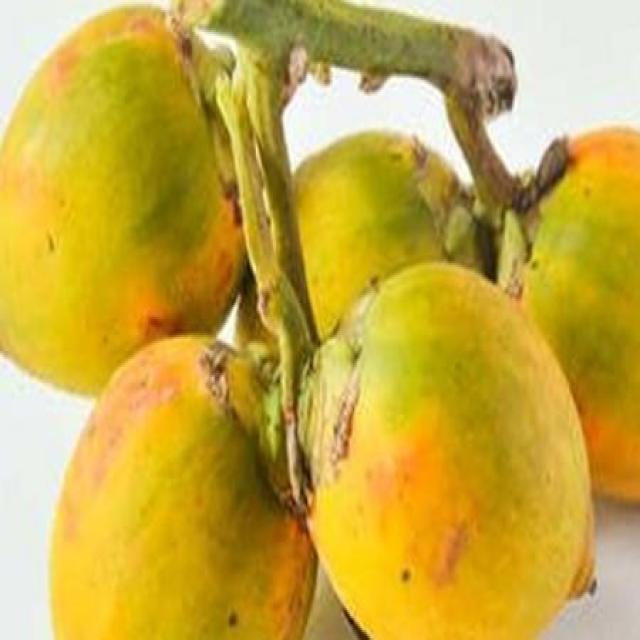good: (48, 44, 597, 638), (0, 0, 249, 401), (521, 126, 639, 508), (293, 134, 455, 341)
